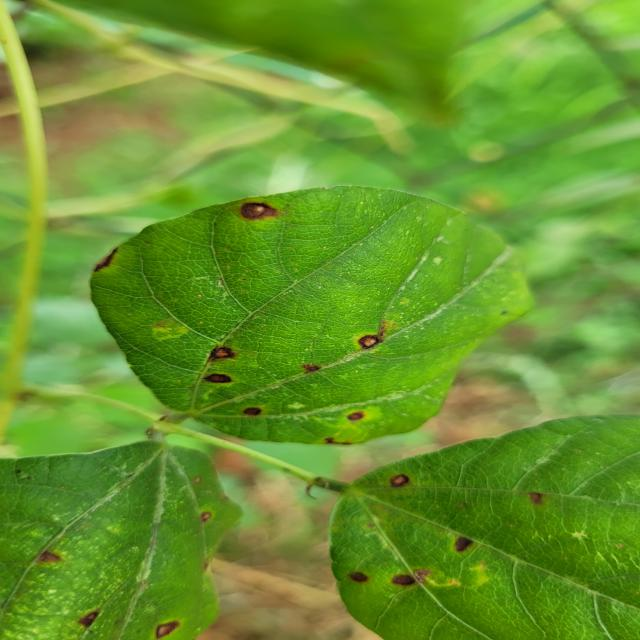Dolicos bean_cercospora leaf spot: (91, 186, 535, 447), (322, 413, 640, 640), (0, 422, 237, 640)
